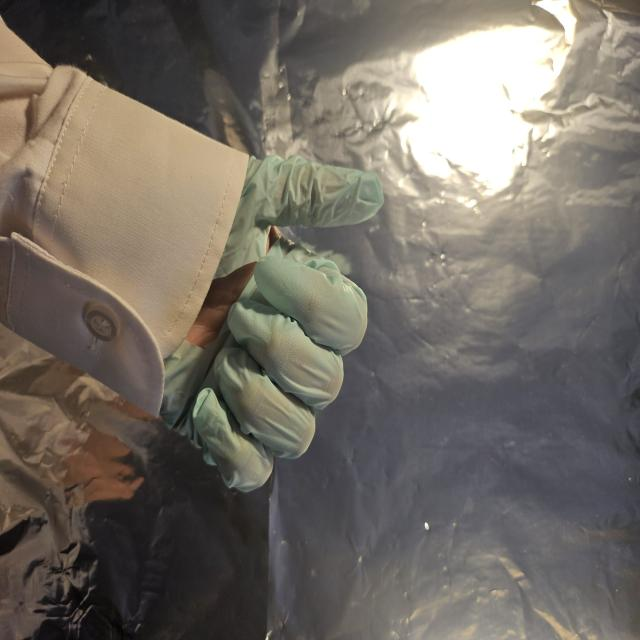gloves_damaged: (156, 153, 388, 494)
